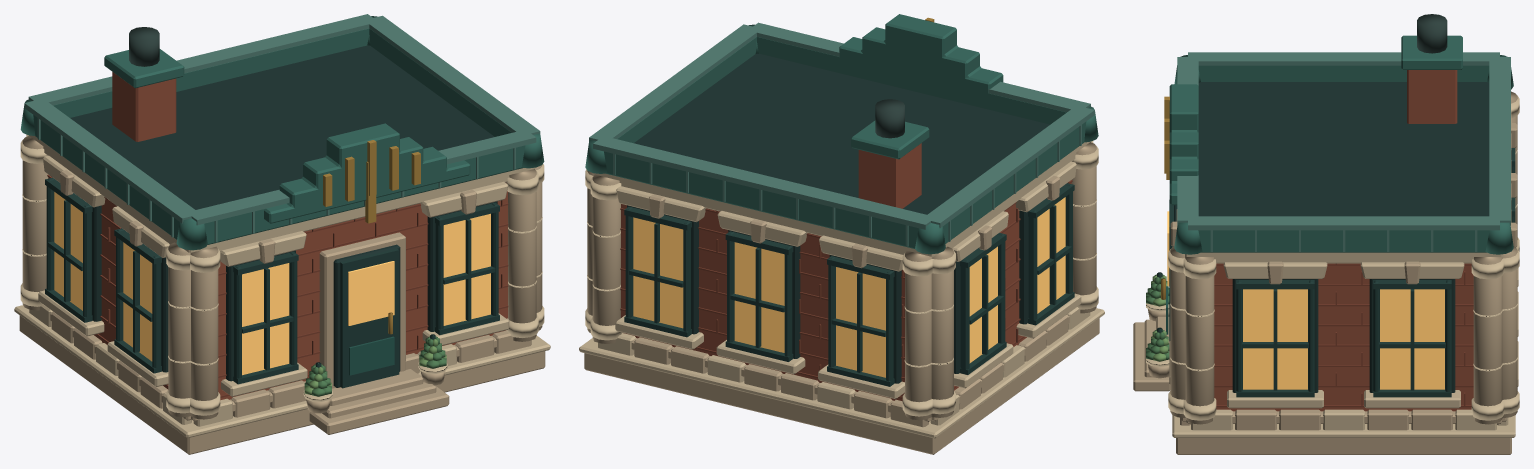
3 views of the same model, side by side, from view 1: azimuth 30°, elevation 25°; view 2: azimuth 150°, elevation 25°; view 3: azimuth 270°, elevation 25° (orthographic). The views are drawn at different scales.
Parts seen in each view (by area): view 1: expansion_villa_1_geometry; view 2: expansion_villa_1_geometry; view 3: expansion_villa_1_geometry.
Part boxes in pixels (x1,y1,x2,y2): expansion_villa_1_geometry: [14, 14, 550, 454]; expansion_villa_1_geometry: [579, 14, 1104, 454]; expansion_villa_1_geometry: [1133, 14, 1519, 454].
Size of the model in its own units: 0.99 by 0.7778 by 0.8963.
